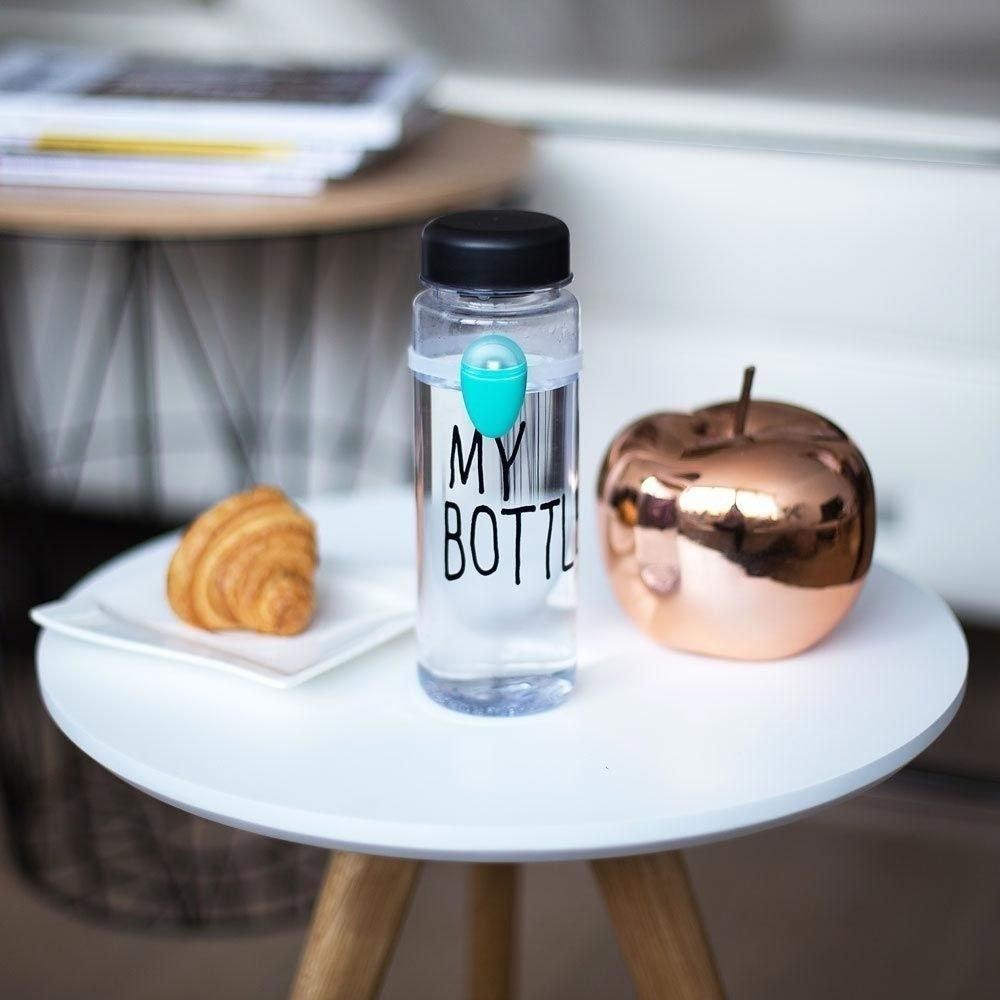gym bottle: (405, 207, 588, 722)
